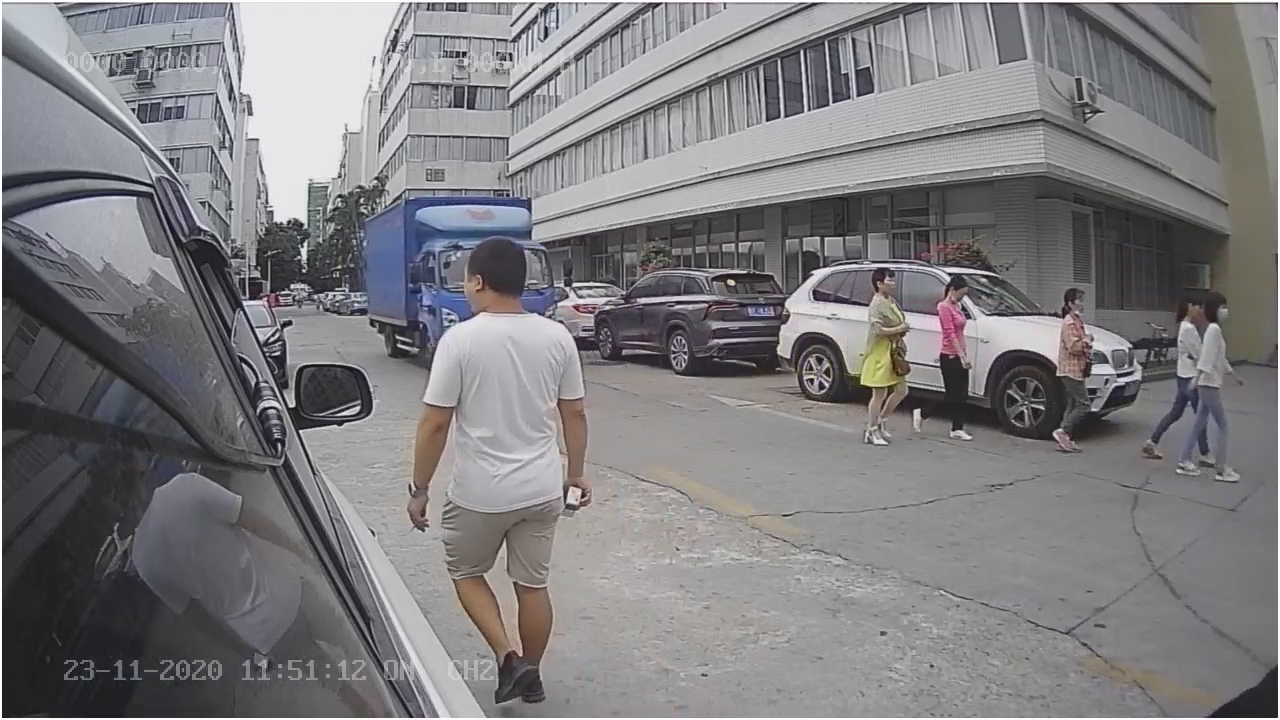person: (394, 235, 594, 705), (844, 262, 911, 444), (1042, 285, 1098, 455)
